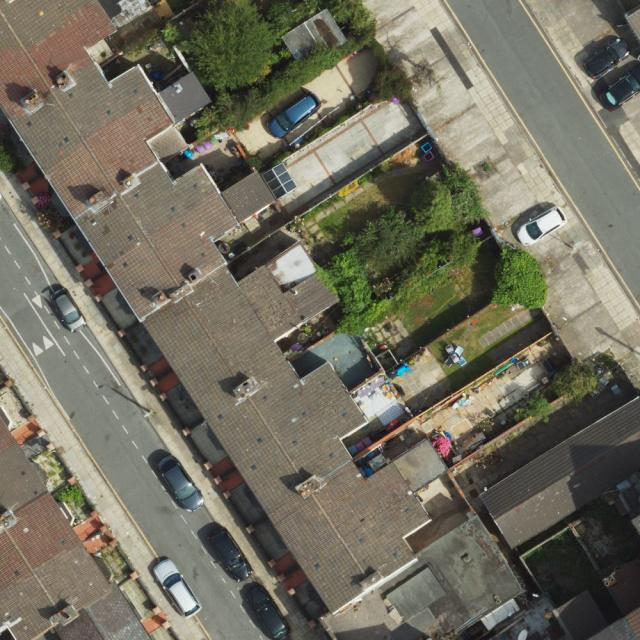roof: (0, 0, 451, 614), (0, 414, 152, 640), (479, 396, 640, 549), (589, 606, 640, 639)
